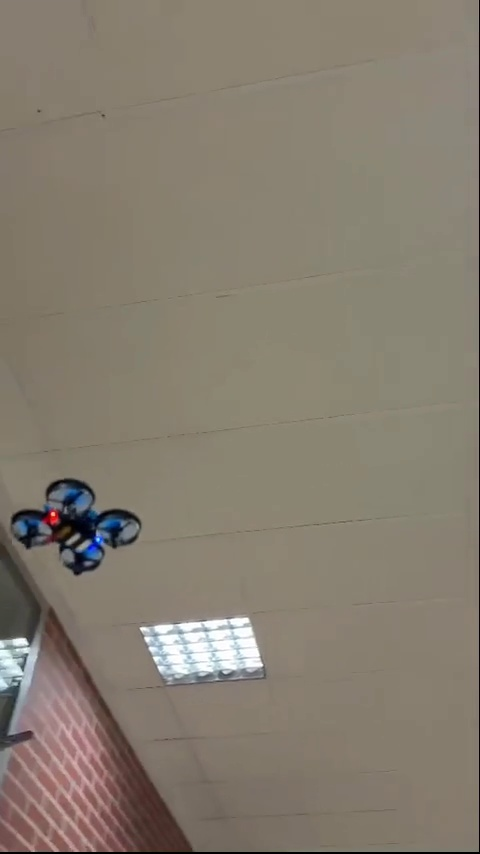drone: (14, 478, 141, 580)
